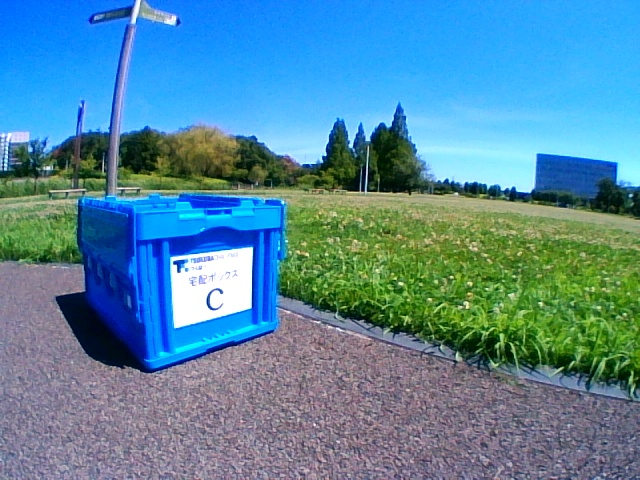blue_box: (78, 193, 286, 370)
tag_c: (179, 259, 240, 311)
